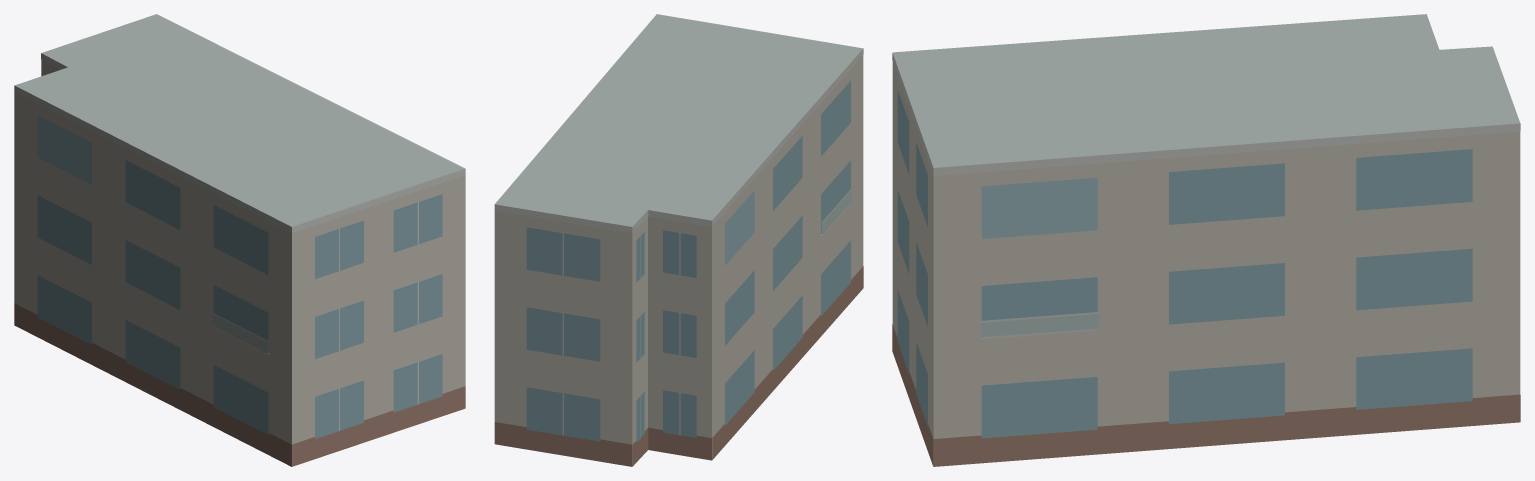
Rendered from survey-upis-32707327.glb.
3 renders of one model, left to right at view 1: azimuth 30°, elevation 25°; view 2: azimuth 150°, elevation 25°; view 3: azimuth 270°, elevation 25°, orthographic. The views are drawn at different scales.
Parts seen in each view (by area): view 1: survey-upis-32707327.tmp; view 2: survey-upis-32707327.tmp; view 3: survey-upis-32707327.tmp.
Part boxes in pixels (x1,y1,x2,y2): survey-upis-32707327.tmp: (14, 14, 465, 466); survey-upis-32707327.tmp: (494, 14, 863, 466); survey-upis-32707327.tmp: (892, 14, 1520, 466).
Size of the model in its own units: 10.11 by 9.15 by 17.43.
